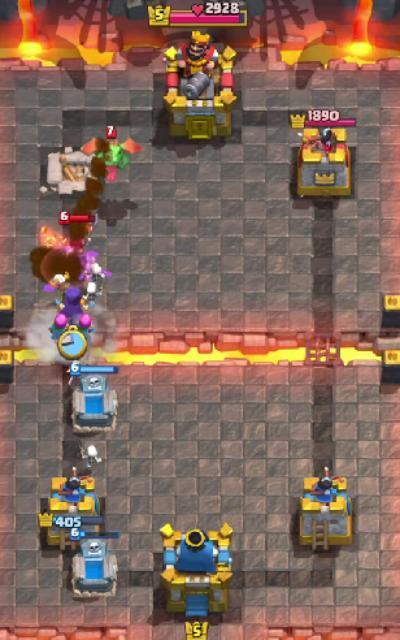ally_melee: (71, 360, 120, 434), (71, 527, 120, 599), (58, 286, 86, 319), (50, 314, 73, 343), (77, 313, 96, 346), (84, 263, 107, 288), (80, 443, 101, 468), (86, 282, 104, 308)
enemy_melee: (81, 126, 142, 182), (57, 212, 97, 254)
